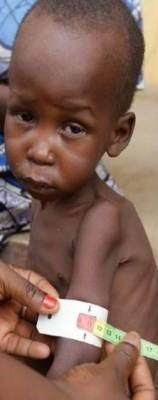Stunting: (1, 5, 158, 217)
